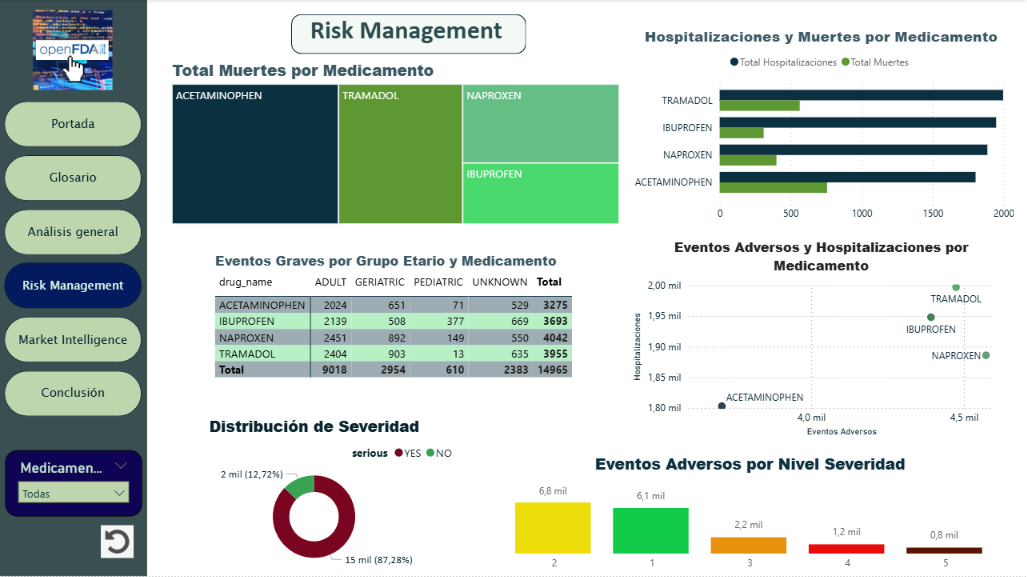

This screenshot's page, from the dashboard's own definition file:
{"tool":"powerbi","page":{"name":"Risk Management","canvas":[1280,720],"ordinal":3},"visuals":[{"type":"textbox","box":[381.5,13.7,258,60.4],"z":0},{"type":"lineClusteredColumnComboChart","title":"Eventos Adversos por Nivel Severidad","fields":{"Category":["dim_severity.severity_id"],"Y":["Tabla Medidas.Total Eventos Adversos"]},"box":[588.7,565.4,691.6,155.1],"z":2000},{"type":"shape","box":[363.6,19.2,292.3,49.4],"z":2500},{"type":"shape","box":[0,0,184.1,719],"z":3000},{"type":"pageNavigator","box":[6.2,126.9,171.7,396.8],"z":4000},{"type":"image","box":[5,13.7,172.9,99.5],"z":5000},{"type":"treemap","title":"Total Muertes por Medicamento","fields":{"Group":["dim_drug.drug_name"],"Values":["Tabla Medidas.Total Muertes"]},"box":[210.2,74.6,566,210.2],"z":6000},{"type":"clusteredBarChart","title":"Hospitalizaciones y Muertes por Medicamento","fields":{"Category":["dim_drug.drug_name"],"Y":["Tabla Medidas.Total Hospitalizaciones","Tabla Medidas.Total Muertes"]},"box":[777.5,33.6,490.1,251.3],"z":7000},{"type":"pivotTable","title":"Eventos Graves por Grupo Etario y Medicamento","fields":{"Rows":["dim_drug.drug_name"],"Columns":["dim_patient.age_group"],"Values":["Tabla Medidas.Total Eventos Graves"]},"box":[263.7,313.5,460.3,166.7],"z":8000},{"type":"donutChart","title":"Distribución de Severidad","fields":{"Category":["dim_severity.serious"],"Y":["Tabla Medidas.Total Eventos Adversos"]},"box":[210.2,517.5,363.2,196.5],"z":9000},{"type":"scatterChart","title":"Eventos Adversos y Hospitalizaciones por Medicamento","fields":{"Category":["dim_drug.drug_name"],"X":["Tabla Medidas.Total Eventos Adversos"],"Y":["Tabla Medidas.Total Hospitalizaciones"]},"box":[783.7,297.3,477.7,251.3],"z":10000},{"type":"slicer","fields":{"Values":["dim_drug.drug_name"]},"box":[7.5,561,170.4,82.1],"z":10001},{"type":"image","box":[125.6,654.3,42.3,41.1],"z":10002}]}

Visuals, with their boxes on the page's 1280x720 design canvas (x1, y1, x2, y2). These are canvas units, not pixel positions in the 1027x577 screenshot, which may show the page scaled, cropped or inside an application window:
textbox: x1=382 y1=14 x2=640 y2=74
"Eventos Adversos por Nivel Severidad" lineClusteredColumnComboChart: x1=589 y1=565 x2=1280 y2=720
shape: x1=364 y1=19 x2=656 y2=69
shape: x1=0 y1=0 x2=184 y2=719
pageNavigator: x1=6 y1=127 x2=178 y2=524
image: x1=5 y1=14 x2=178 y2=113
"Total Muertes por Medicamento" treemap: x1=210 y1=75 x2=776 y2=285
"Hospitalizaciones y Muertes por Medicamento" clusteredBarChart: x1=778 y1=34 x2=1268 y2=285
"Eventos Graves por Grupo Etario y Medicamento" pivotTable: x1=264 y1=314 x2=724 y2=480
"Distribución de Severidad" donutChart: x1=210 y1=518 x2=573 y2=714
"Eventos Adversos y Hospitalizaciones por Medicamento" scatterChart: x1=784 y1=297 x2=1261 y2=549
slicer - dim_drug.drug_name: x1=8 y1=561 x2=178 y2=643
image: x1=126 y1=654 x2=168 y2=695
